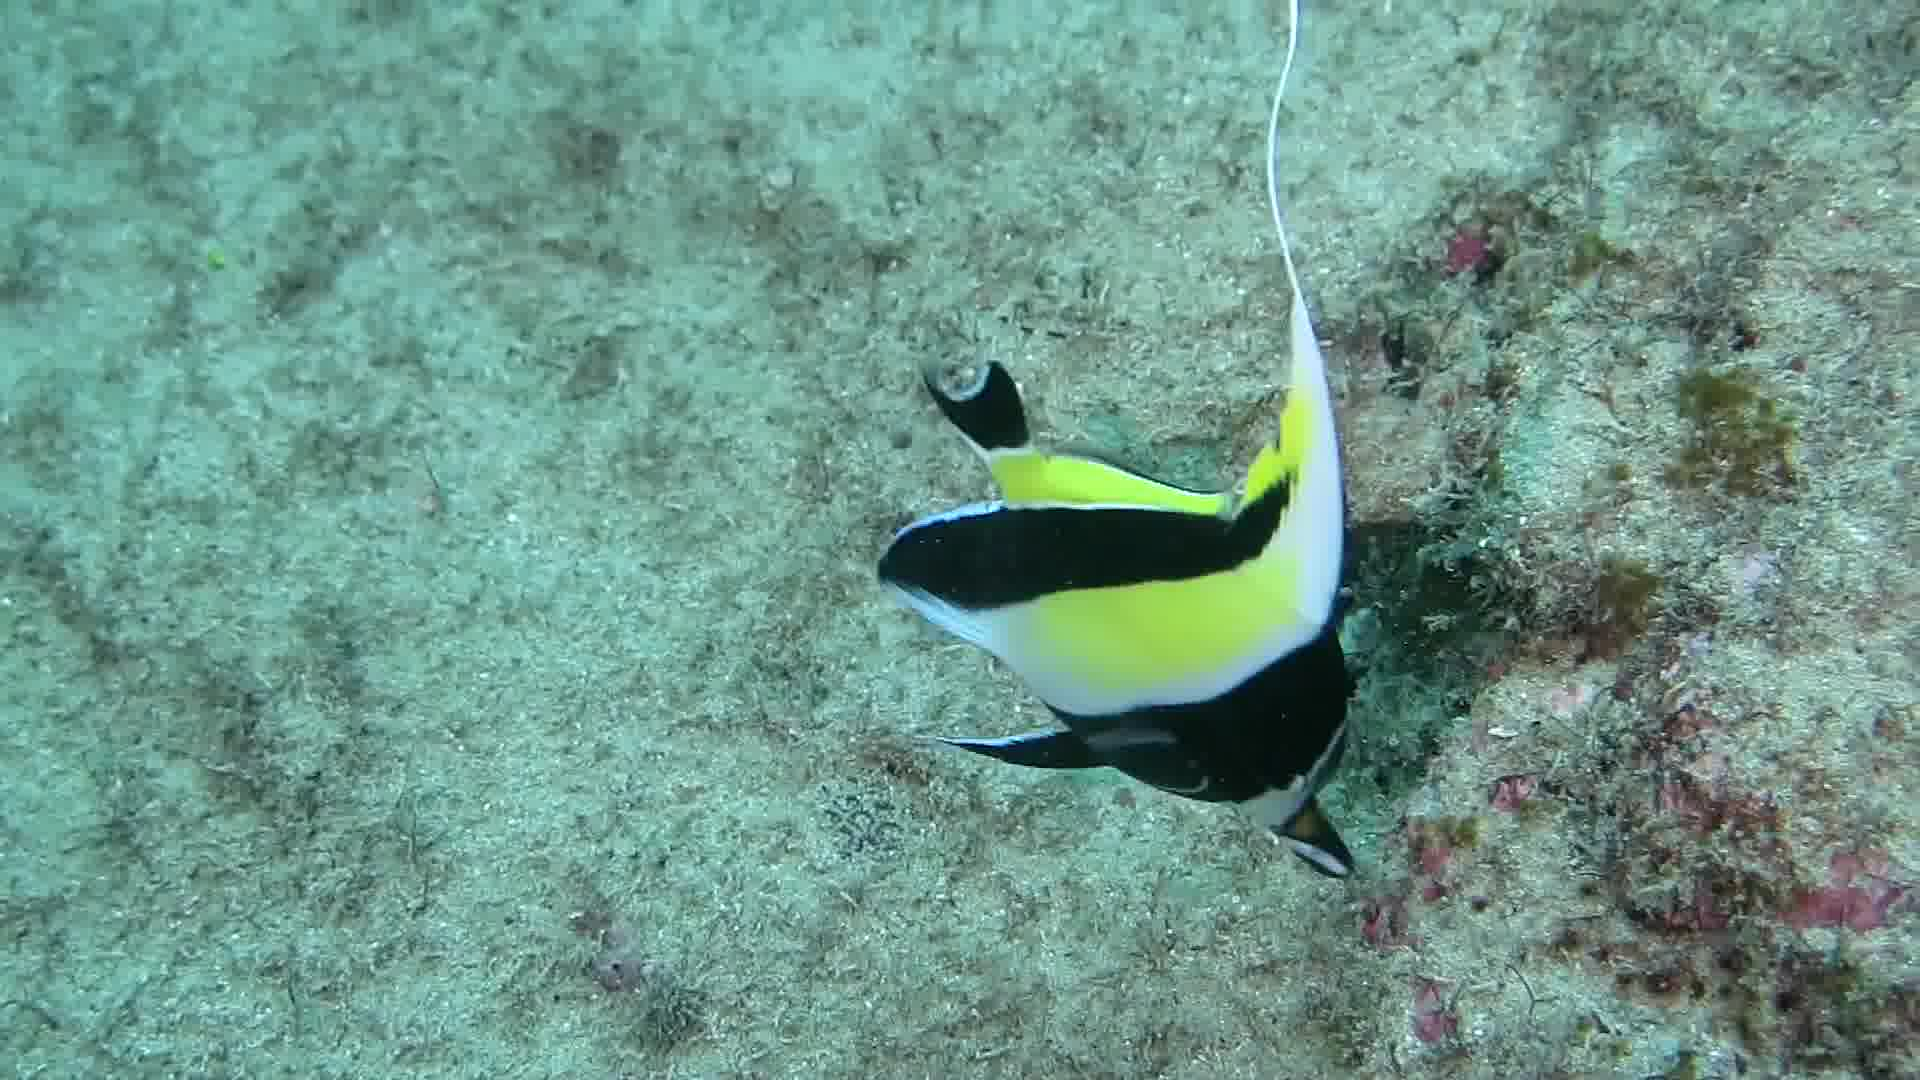Zanclus cornutus: (796, 276, 1561, 901)
